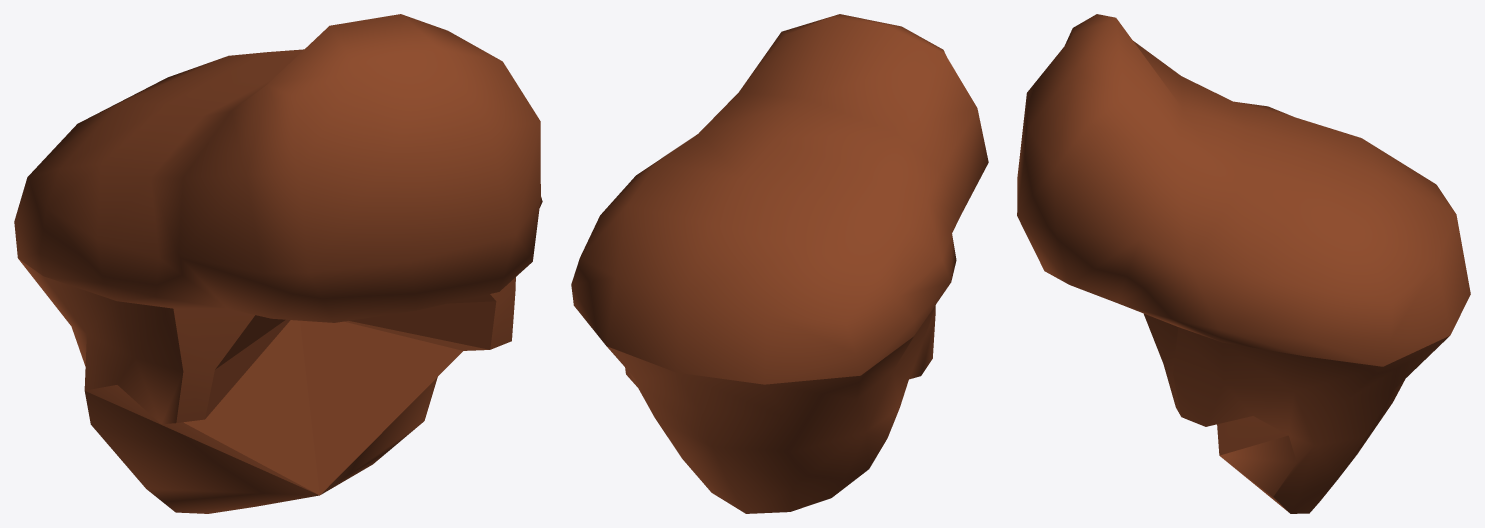
The model's file is Male_Hairs_07_v2.fbx.
3 renders of one model, left to right at view 1: azimuth 30°, elevation 25°; view 2: azimuth 150°, elevation 25°; view 3: azimuth 270°, elevation 25°, orthographic. The views are drawn at different scales.
Visible parts, largest first — view 1: Male_Hairs_07_v2; view 2: Male_Hairs_07_v2; view 3: Male_Hairs_07_v2.
Boxes of the visible parts, x1,y1,x2,y2 form: Male_Hairs_07_v2: [14, 14, 542, 513]; Male_Hairs_07_v2: [571, 14, 988, 513]; Male_Hairs_07_v2: [1017, 14, 1470, 513].
Bounding box in the file's own units: 67.67 × 85.55 × 76.11.
